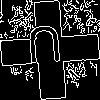U: (25, 25, 64, 73)
